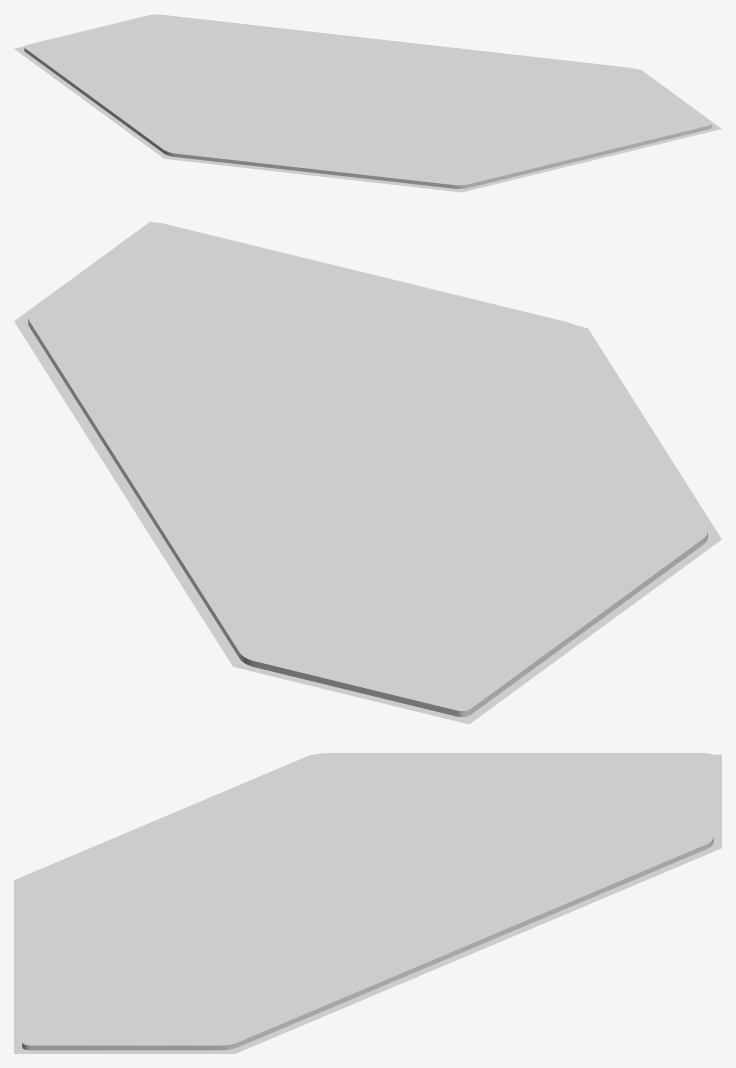
Rendered from MMo_C_001_o_26x26.fbx.
The picture shows the model from 3 angles, top to bottom: view 1: azimuth 30°, elevation 25°; view 2: azimuth 150°, elevation 25°; view 3: azimuth 270°, elevation 25°; orthographic projection. The views are drawn at different scales.
Parts seen in each view (by area): view 1: MMo_C_001_o_26x26; view 2: MMo_C_001_o_26x26; view 3: MMo_C_001_o_26x26.
Boxes of the visible parts, x1,y1,x2,y2 form: MMo_C_001_o_26x26: (14,14,721,192); MMo_C_001_o_26x26: (14,221,721,724); MMo_C_001_o_26x26: (14,753,721,1053).
Size of the model in its own units: 26.2 by 0.2 by 26.2.
